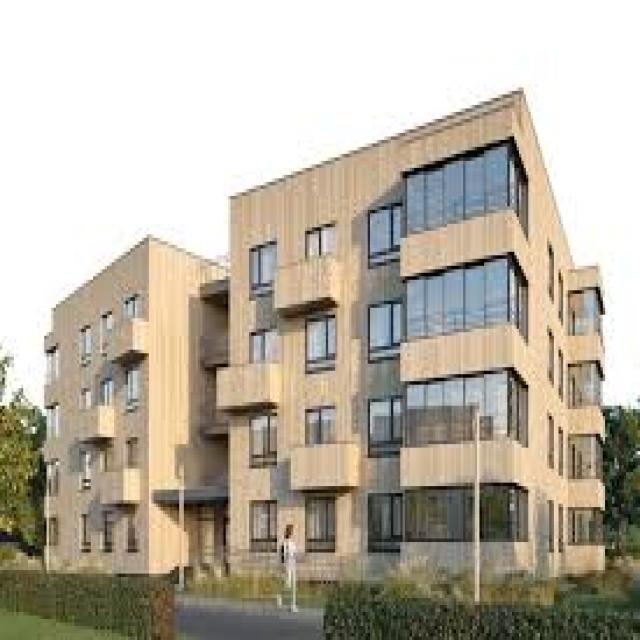window: (368, 395, 407, 469), (366, 206, 408, 273), (302, 493, 338, 560), (372, 297, 405, 367), (366, 493, 402, 556), (237, 245, 277, 301), (240, 500, 274, 560), (302, 314, 333, 370), (249, 412, 277, 468)
